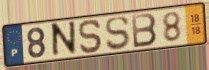8: (160, 11, 183, 43), (26, 27, 48, 59)
B: (130, 12, 158, 50)
N: (51, 19, 78, 60)
S: (104, 15, 131, 53), (78, 18, 105, 55)
